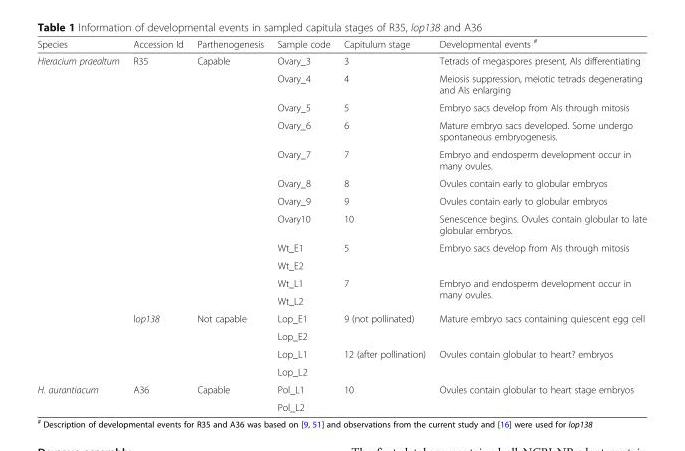table: (36, 36, 646, 412)
table column: (431, 36, 646, 412), (336, 36, 431, 412), (36, 36, 125, 412), (189, 36, 269, 412), (269, 36, 336, 412), (125, 36, 189, 412)
table column header: (36, 36, 646, 52)
table row: (36, 69, 646, 98), (36, 116, 646, 145), (36, 145, 646, 174), (36, 209, 646, 238), (36, 98, 646, 116), (36, 191, 646, 209), (36, 238, 646, 256), (36, 256, 646, 274), (36, 291, 646, 309), (36, 309, 646, 327), (36, 344, 646, 362), (36, 362, 646, 380), (36, 52, 646, 69), (36, 174, 646, 191), (36, 274, 646, 291), (36, 327, 646, 344), (36, 380, 646, 397), (36, 36, 646, 52), (36, 397, 646, 412)
table spanning cell: (36, 52, 125, 380), (189, 52, 269, 309), (125, 52, 189, 309), (431, 238, 646, 274), (431, 344, 646, 380), (431, 274, 646, 309), (431, 309, 646, 344), (431, 380, 646, 412), (189, 309, 269, 380), (125, 309, 189, 380), (336, 238, 431, 274), (336, 344, 431, 380), (336, 274, 431, 309), (336, 309, 431, 344), (336, 380, 431, 412), (36, 380, 125, 412), (189, 380, 269, 412), (125, 380, 189, 412)
